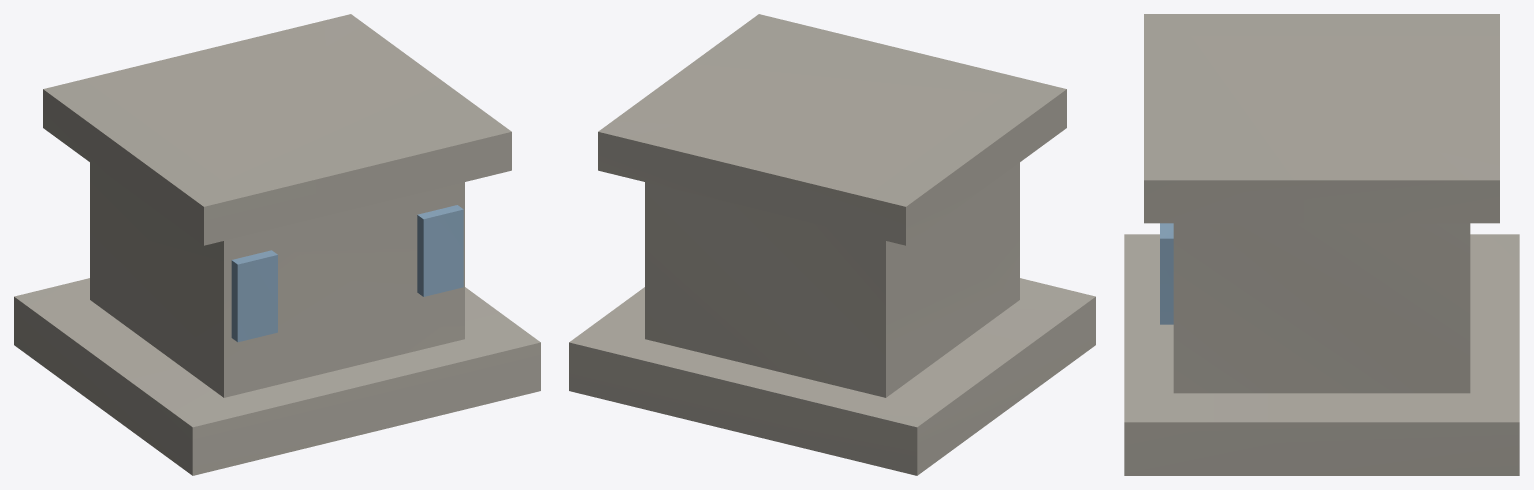
The model's file is rail_station-02.glb.
3 views of the same model, side by side, from view 1: azimuth 30°, elevation 25°; view 2: azimuth 150°, elevation 25°; view 3: azimuth 270°, elevation 25° (orthographic). The views are drawn at different scales.
Parts seen in each view (by area): view 1: world; view 2: world; view 3: world.
Part boxes in pixels (bbox=[...]): world: bbox=[14, 14, 540, 475]; world: bbox=[569, 14, 1095, 475]; world: bbox=[1124, 14, 1519, 475].
Size of the model in its own units: 1.12 by 0.7952 by 1.
